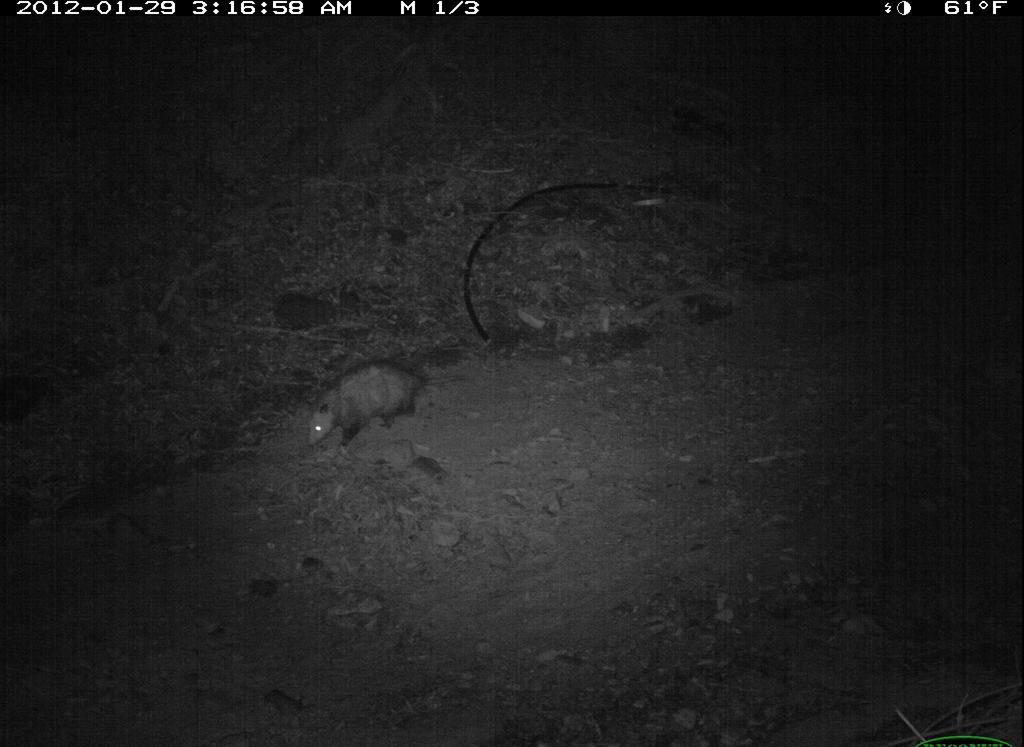opossum: (289, 359, 486, 463)
